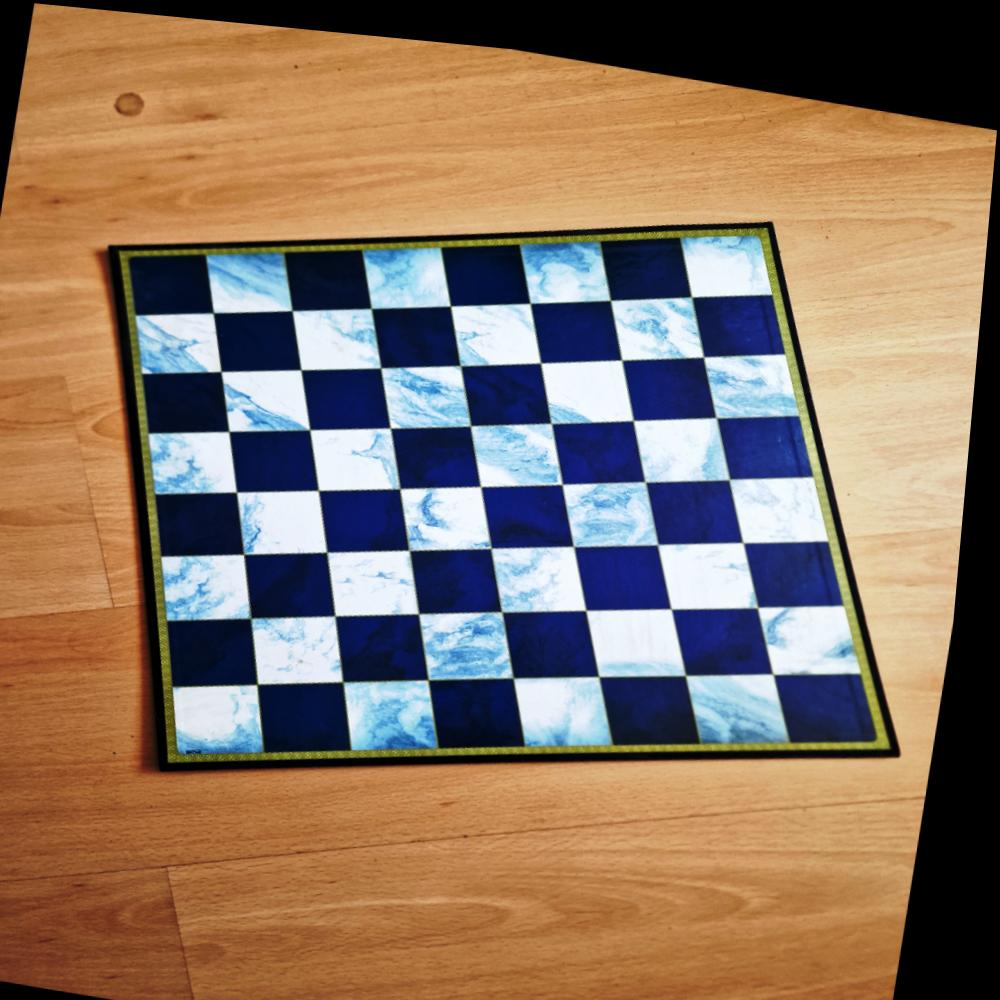chessfield: (679, 645, 806, 745), (504, 653, 626, 752), (341, 658, 457, 757), (649, 515, 769, 610), (170, 667, 281, 768), (772, 646, 891, 739), (416, 586, 532, 681), (598, 649, 713, 743), (668, 580, 784, 673), (754, 577, 867, 672), (428, 656, 542, 750), (580, 582, 694, 675), (324, 532, 437, 625), (229, 475, 342, 566), (248, 600, 357, 694), (623, 389, 736, 479), (257, 662, 366, 755), (481, 526, 593, 616), (558, 458, 671, 547), (496, 585, 607, 675), (740, 511, 852, 600), (154, 535, 262, 627), (392, 462, 502, 550), (571, 525, 681, 613), (298, 409, 407, 497), (195, 234, 301, 324), (336, 596, 442, 685), (642, 456, 750, 543), (280, 292, 389, 378), (465, 405, 574, 491), (603, 270, 712, 356), (115, 243, 227, 326), (357, 226, 463, 313), (163, 605, 267, 693), (720, 453, 824, 541), (514, 220, 619, 307), (372, 344, 478, 430), (408, 528, 512, 615), (672, 208, 776, 295), (444, 282, 549, 367), (616, 332, 722, 416), (537, 337, 640, 423), (523, 278, 627, 363), (145, 415, 246, 502), (548, 398, 652, 482), (699, 328, 803, 412), (245, 536, 347, 621), (458, 342, 562, 425), (295, 351, 400, 433), (712, 389, 817, 471), (316, 472, 419, 555), (479, 462, 581, 545), (151, 475, 253, 558), (598, 219, 701, 301), (223, 413, 326, 495), (433, 224, 536, 306), (279, 231, 381, 313), (130, 298, 228, 383), (209, 295, 309, 377), (369, 286, 469, 367), (387, 410, 487, 491), (140, 357, 237, 438), (687, 270, 784, 350), (216, 352, 316, 429)
